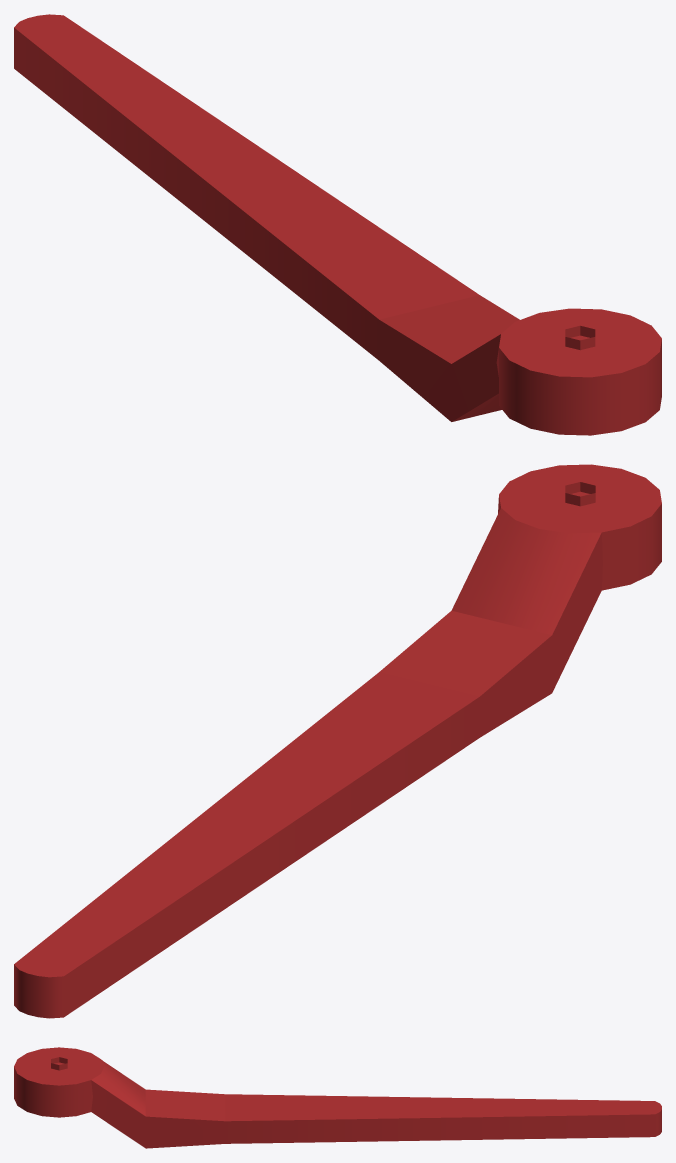
The model's file is Handle_sharp_upright.fbx.
The picture shows the model from 3 angles, top to bottom: view 1: azimuth 30°, elevation 25°; view 2: azimuth 150°, elevation 25°; view 3: azimuth 270°, elevation 25°; orthographic projection. The views are drawn at different scales.
Parts seen in each view (by area): view 1: Handle_Sharp; view 2: Handle_Sharp; view 3: Handle_Sharp.
Part boxes in pixels (bbox=[...]): Handle_Sharp: bbox=[14, 14, 661, 435]; Handle_Sharp: bbox=[14, 464, 661, 1018]; Handle_Sharp: bbox=[14, 1047, 661, 1148].
Size of the model in its own units: 3.49 by 3.15 by 25.01.
